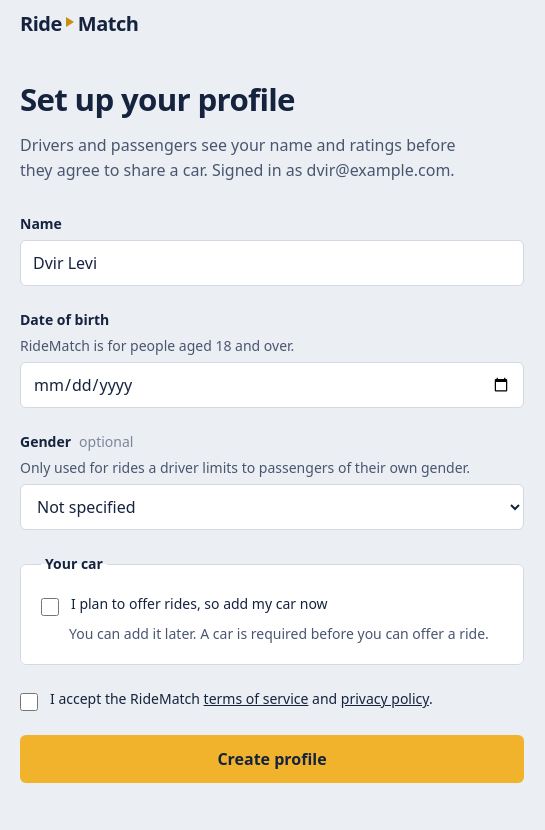
Scenario: a 422 naming a field the form did not expect › shows a field it cannot place rather than failing silently
Type "1996-02-11" into the date field labelled "Date of birth" at (272, 385), box [20,362,524,408]
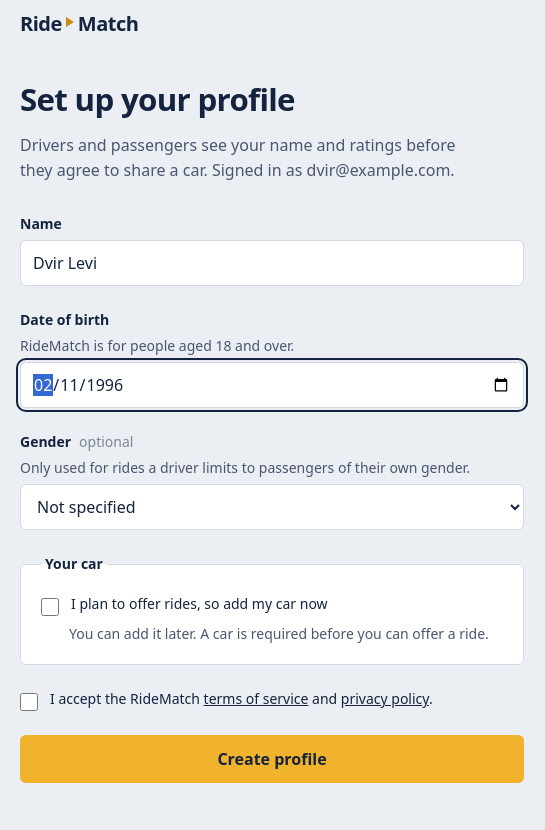
Click the checkbox labelled "I accept the RideMatch terms of service and privacy policy ." at (29, 702), box [20,693,38,711]
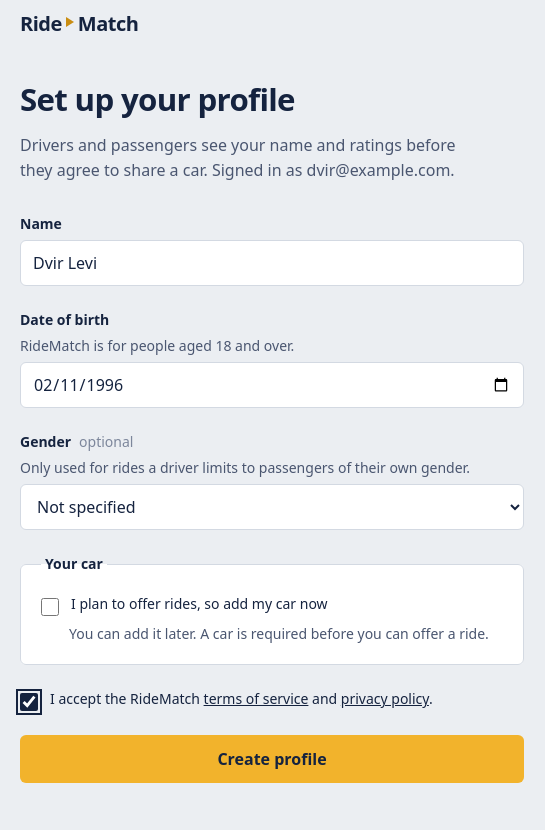
Click the button "Create profile" at (272, 759), box [20,735,524,783]
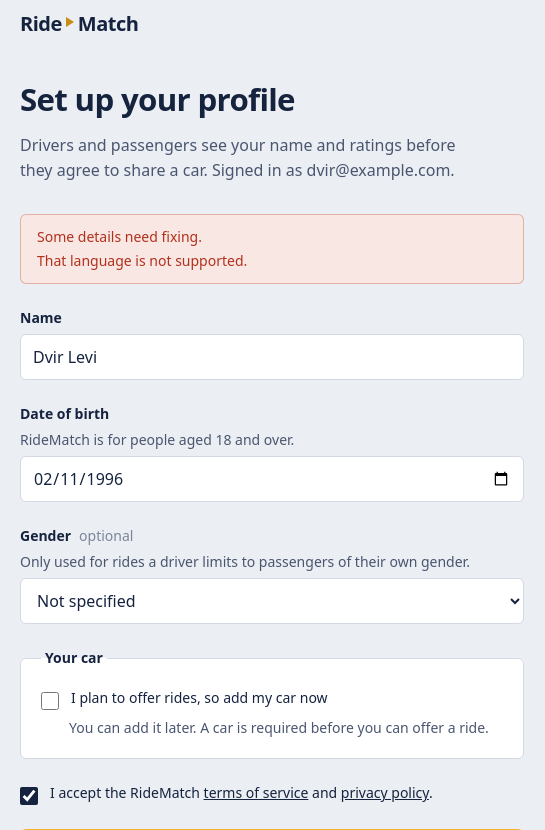
Expected: the text "That language is not supported." is shown, [37,251,247,270]
Expected: the text "Some details need fixing." is shown, [37,227,202,246]
